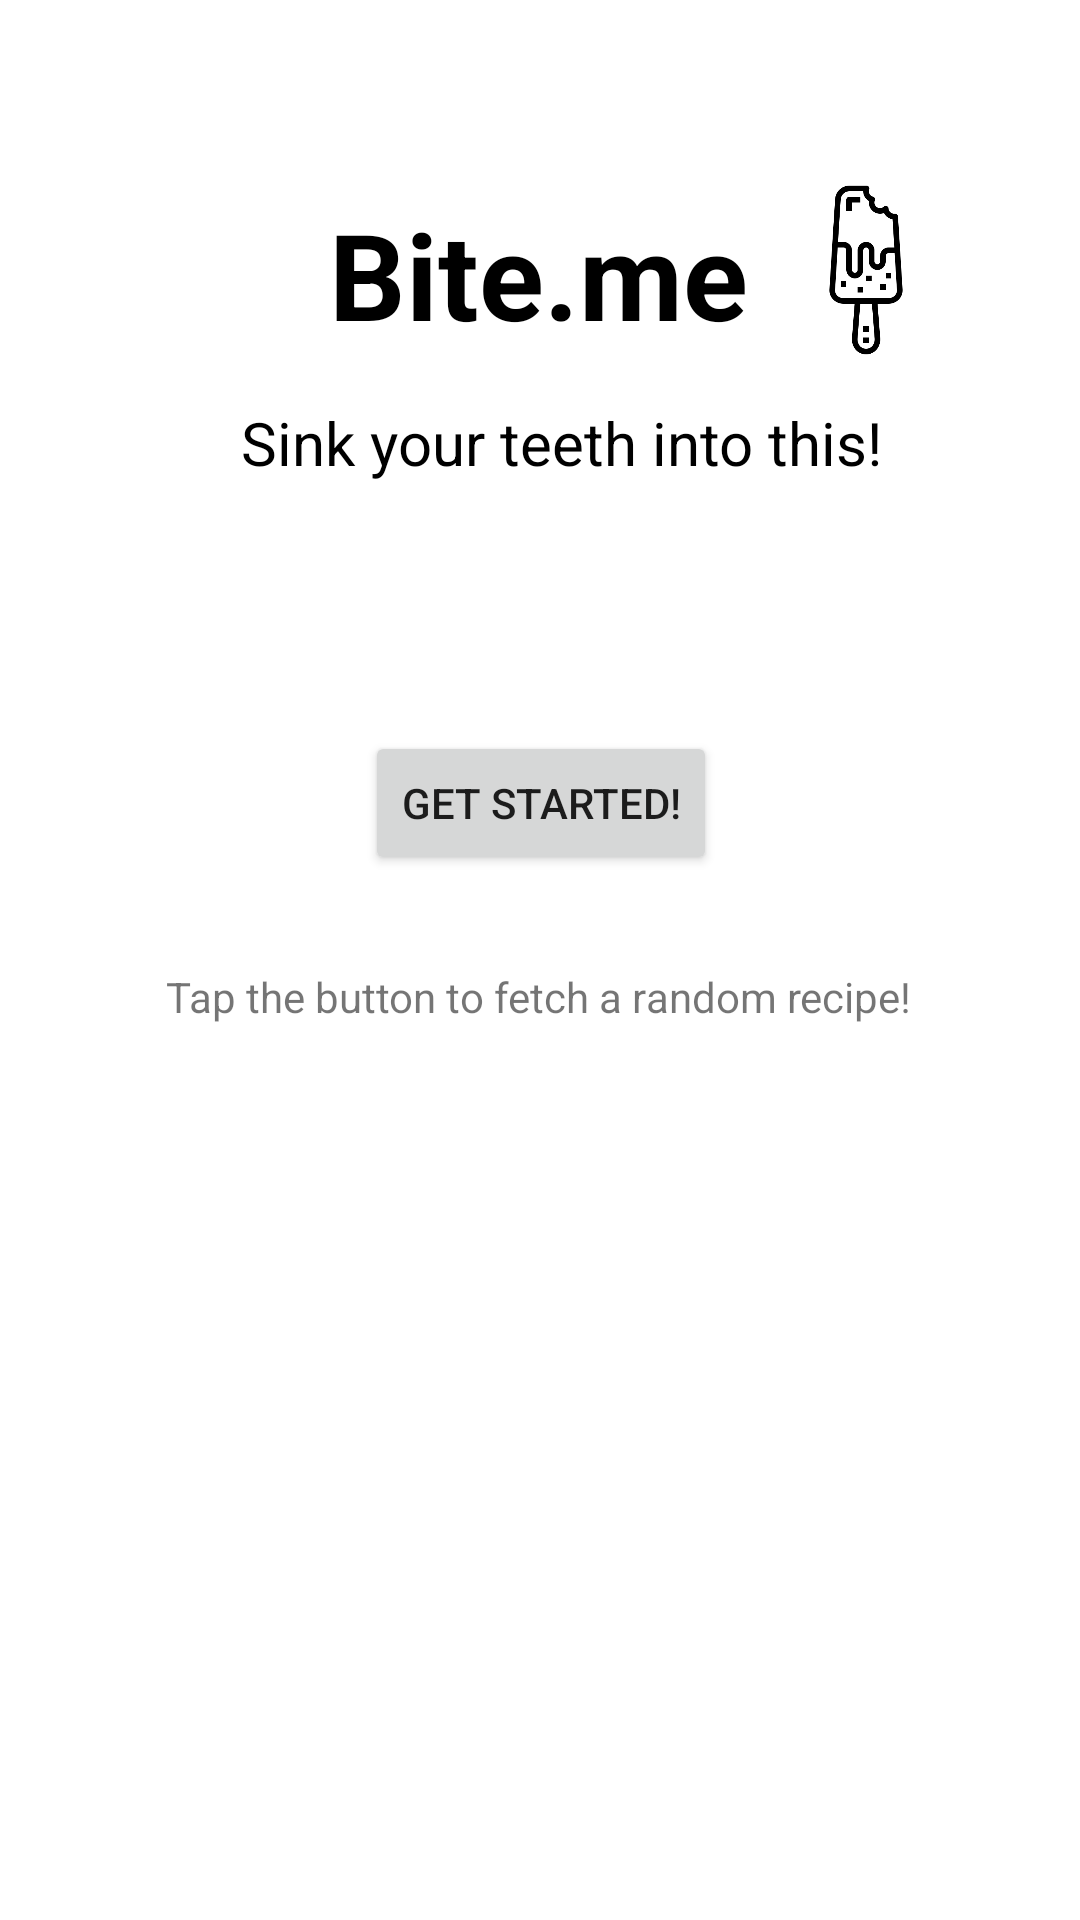

Screen size 1080w x 1920h. Icon name, then its box in pixels as (x1, y1, x2, y2):
bitten: (829, 185, 903, 355)
